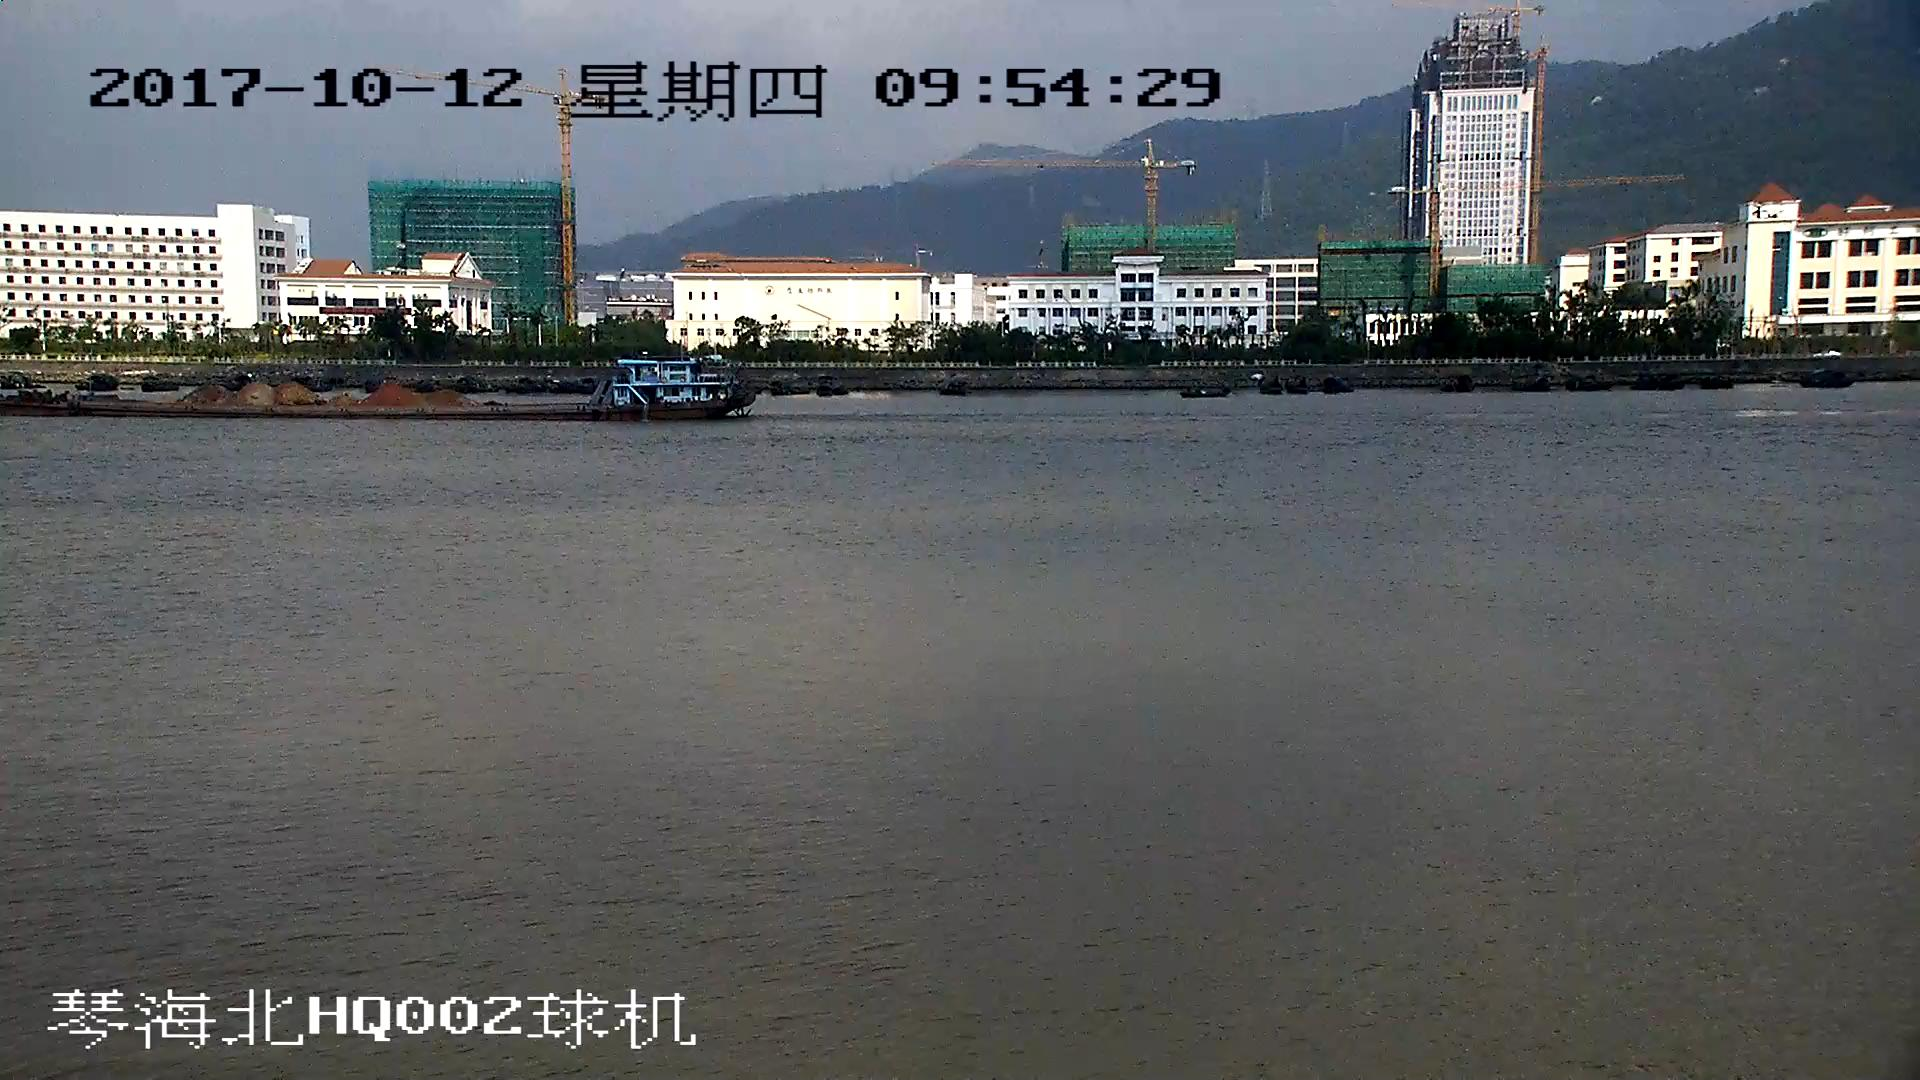ore carrier: (1, 359, 755, 422)
